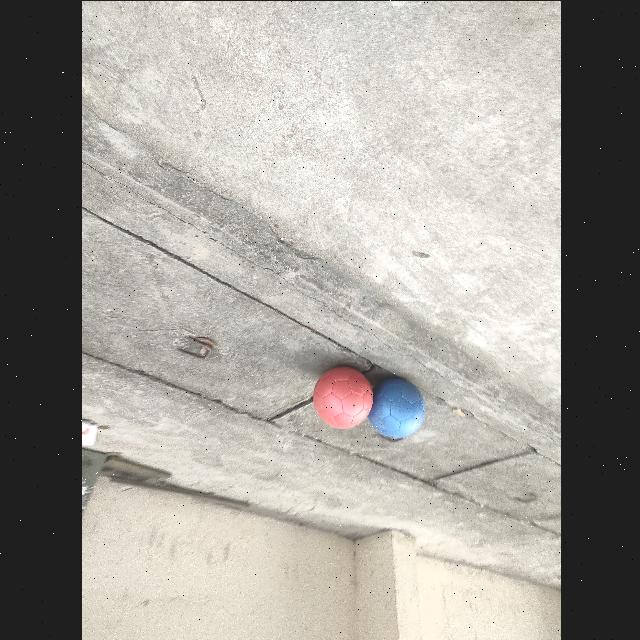B: (366, 377, 424, 438)
R: (311, 366, 371, 428)
